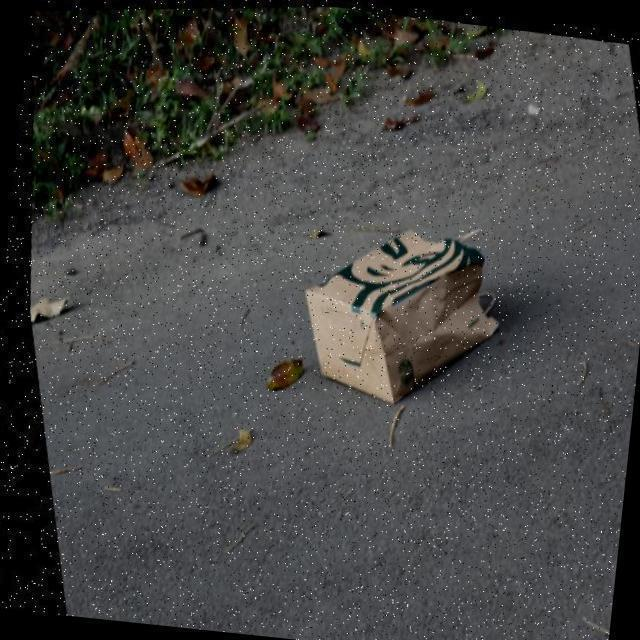Paper_Bag: (273, 200, 522, 426)
